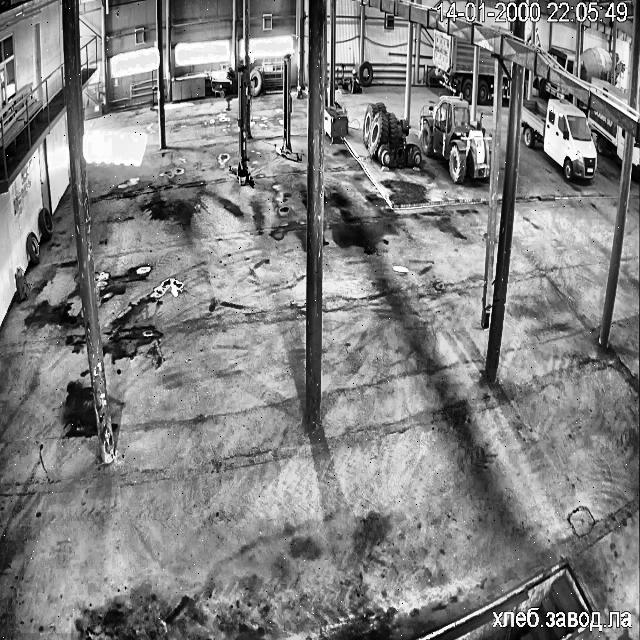car lift: (230, 66, 253, 186), (275, 54, 300, 161)
fire extinguisher: (16, 268, 26, 300)
tractor: (420, 96, 489, 182), (362, 102, 420, 166)
truck: (521, 100, 596, 180), (432, 28, 473, 100), (588, 108, 624, 160), (580, 46, 610, 83), (476, 46, 494, 103), (592, 78, 628, 102), (536, 77, 571, 98), (548, 45, 574, 73), (632, 140, 640, 180), (498, 72, 508, 99), (504, 60, 511, 74), (616, 60, 620, 76)
